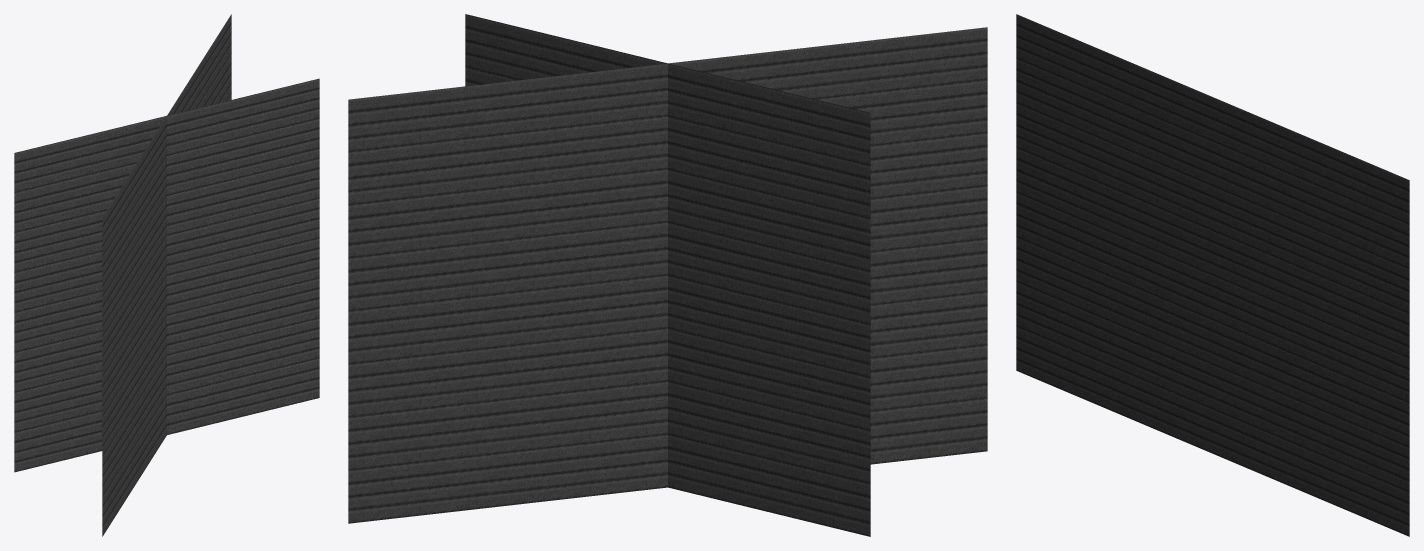
The model's file is wall_tileset.glb.
3 renders of one model, left to right at view 1: azimuth 30°, elevation 25°; view 2: azimuth 150°, elevation 25°; view 3: azimuth 270°, elevation 25°, orthographic. The views are drawn at different scales.
Parts seen in each view (by area): view 1: wall, wallcorner; view 2: wallcorner, wall; view 3: wallcorner.
Boxes of the visible parts, x1,y1,x2,y2 form: wall: (14,78,319,472); wallcorner: (102,14,231,536); wallcorner: (348,27,987,523); wall: (465,14,870,536); wallcorner: (1016,14,1409,536).
Size of what is drawn, in the model's own units: 16 by 16 by 16.
Materials: 1 (1 with a texture image).
